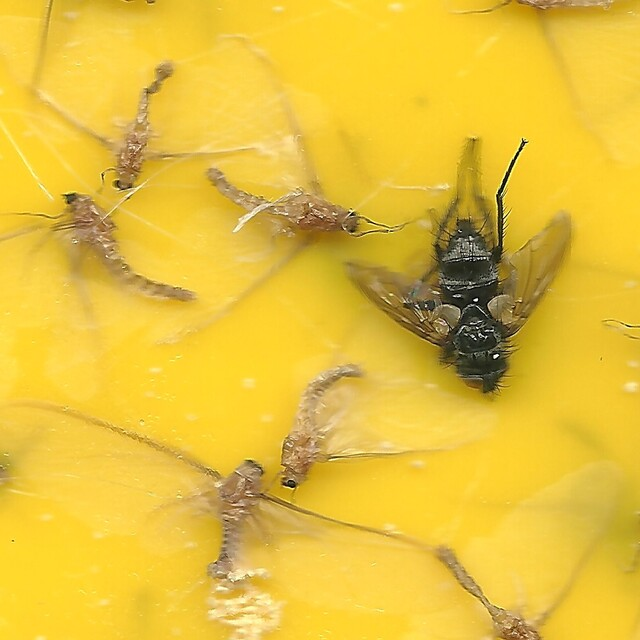Brachycera: (348, 134, 578, 398)
Ephemeroptera: (62, 190, 200, 302), (279, 360, 369, 489), (205, 167, 366, 238), (113, 59, 174, 195), (211, 455, 265, 581)
